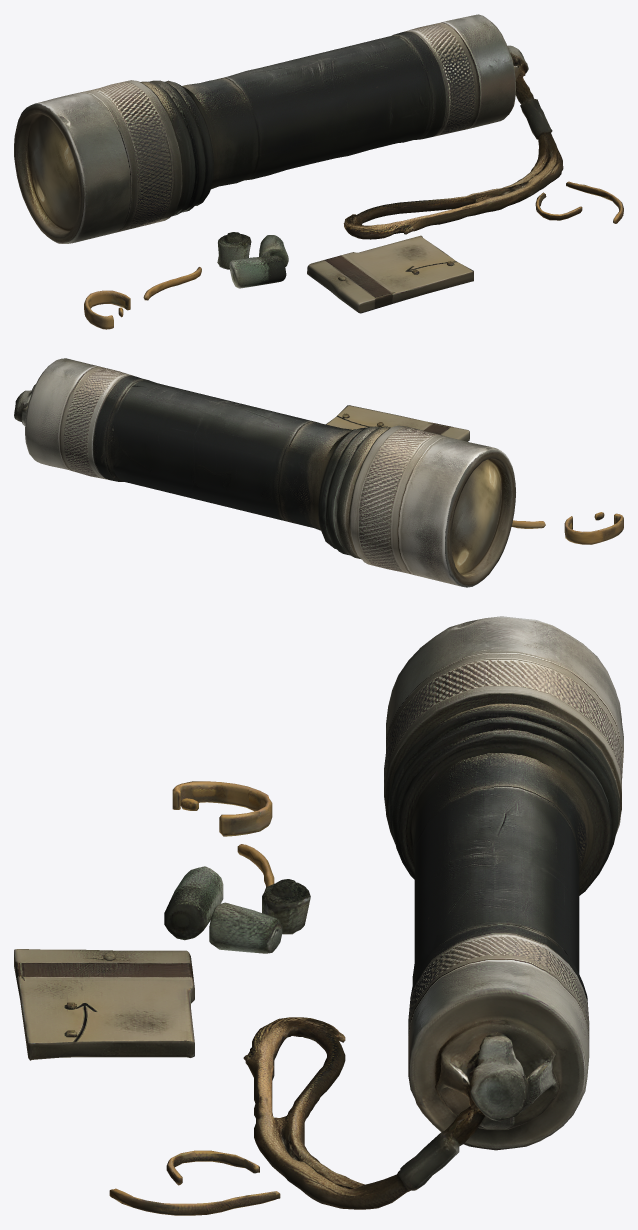
Rendered from Meshy_AI_Vintage_metal_flashli_0313130113_texture.fbx.
3 views of the same model, one above another, from view 1: azimuth 30°, elevation 25°; view 2: azimuth 150°, elevation 25°; view 3: azimuth 270°, elevation 25° (orthographic). The views are drawn at different scales.
Visible parts, largest first — view 1: Mesh_0; view 2: Mesh_0; view 3: Mesh_0.
Part boxes in pixels (x1=…): Mesh_0: x1=14, y1=14, x2=623, y2=329; Mesh_0: x1=14, y1=358, x2=623, y2=587; Mesh_0: x1=14, y1=616, x2=623, y2=1215.
Size of the model in its own units: 191 by 48.14 by 117.
1 material, 1 textured.
